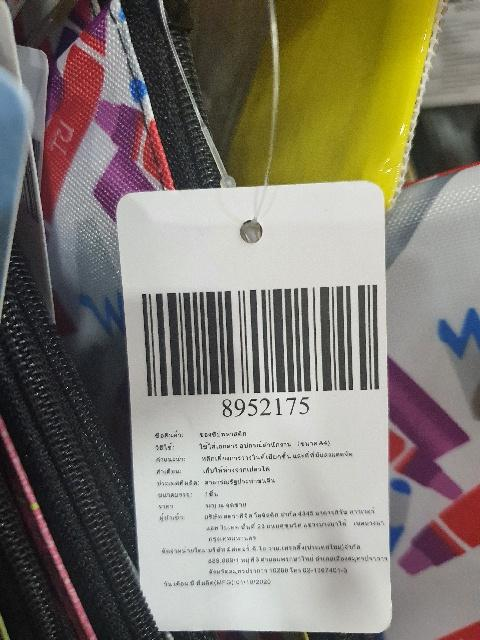Barcode: (133, 273, 386, 417)
